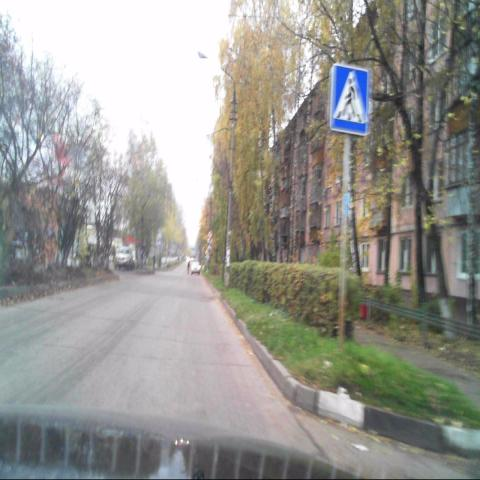5_19_1: (329, 64, 369, 135)
